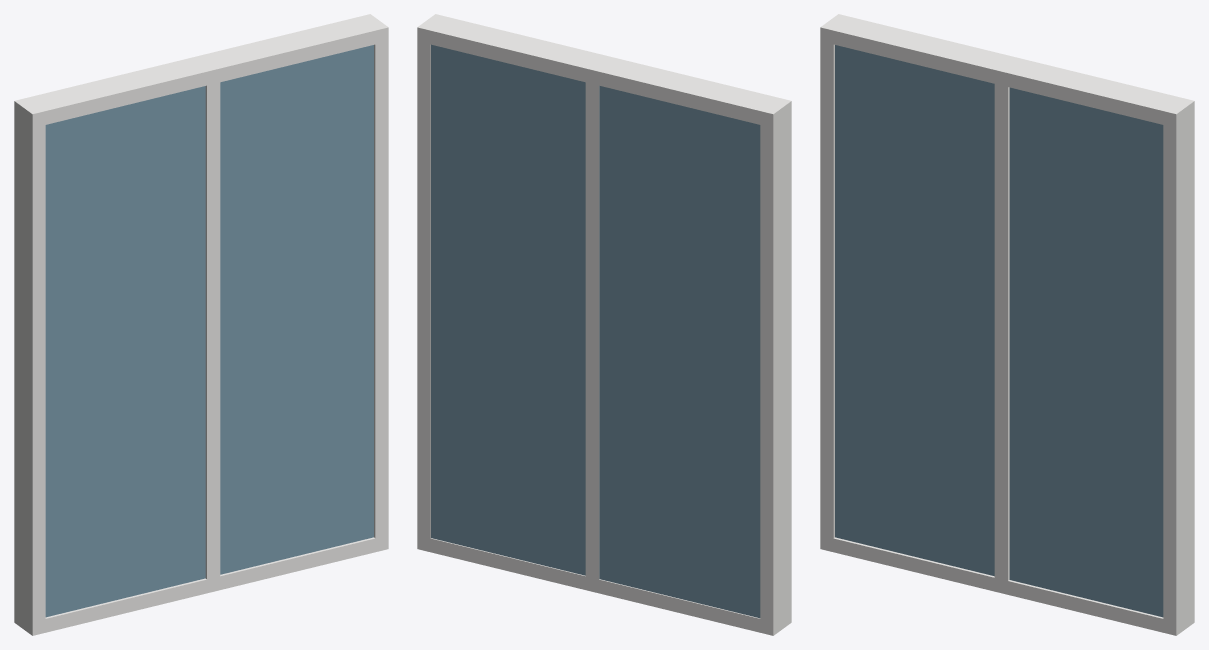
File: Window_25.fbx
The picture shows the model from 3 angles, left to right: view 1: azimuth 30°, elevation 25°; view 2: azimuth 150°, elevation 25°; view 3: azimuth 330°, elevation 25°; orthographic projection.
Visible parts, largest first — view 1: Window_25; view 2: Window_25; view 3: Window_25.
Part boxes in pixels (x1,y1,x2,y2): Window_25: (14, 14, 388, 635); Window_25: (417, 14, 791, 635); Window_25: (820, 14, 1194, 635).
Size of the model in its own units: 148 by 13.12 by 207.
